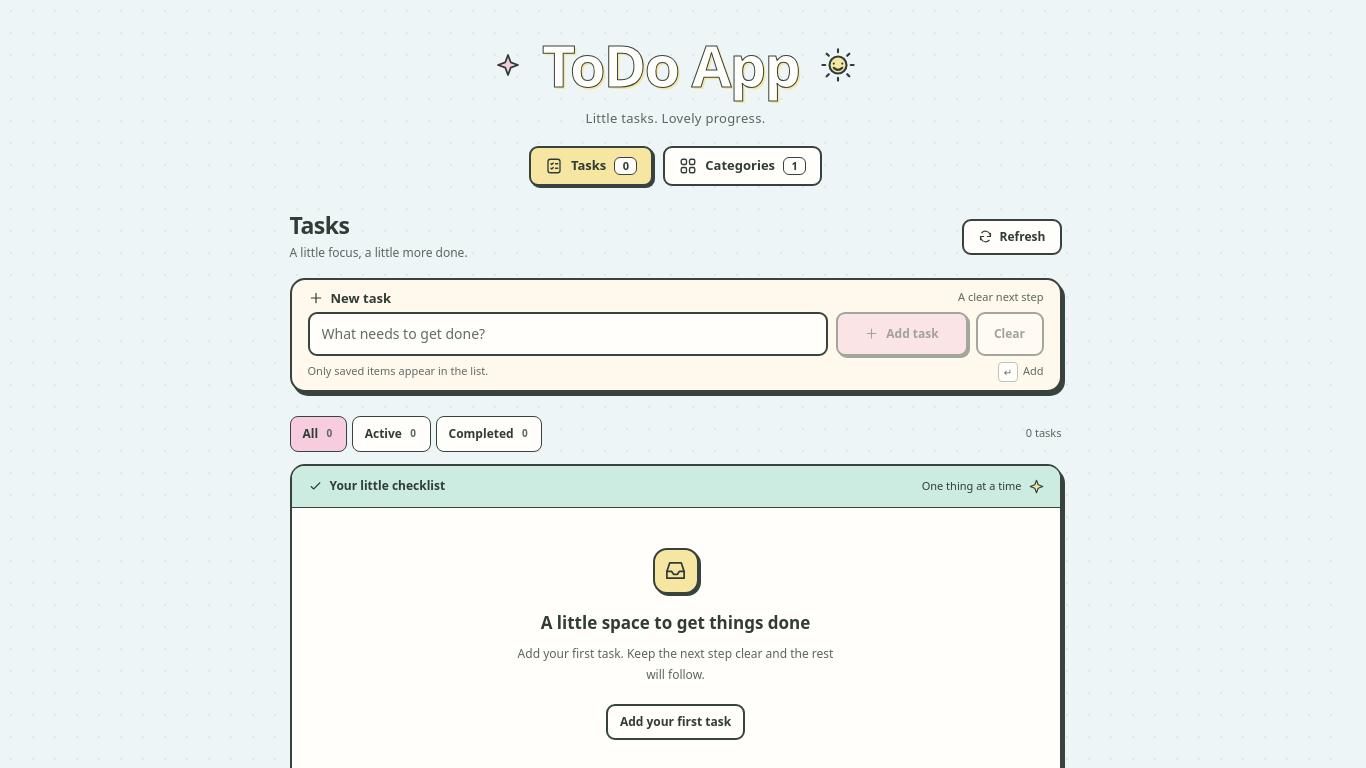
Scenario: offers useful empty states and keyboard form submission
This screenshot has width=1366, height=768.
Check: the heading "A little space to get things done" is shown, box [541,610,810,635]
Click the button "Add your first task" at point(676, 722), box [606,704,745,740]
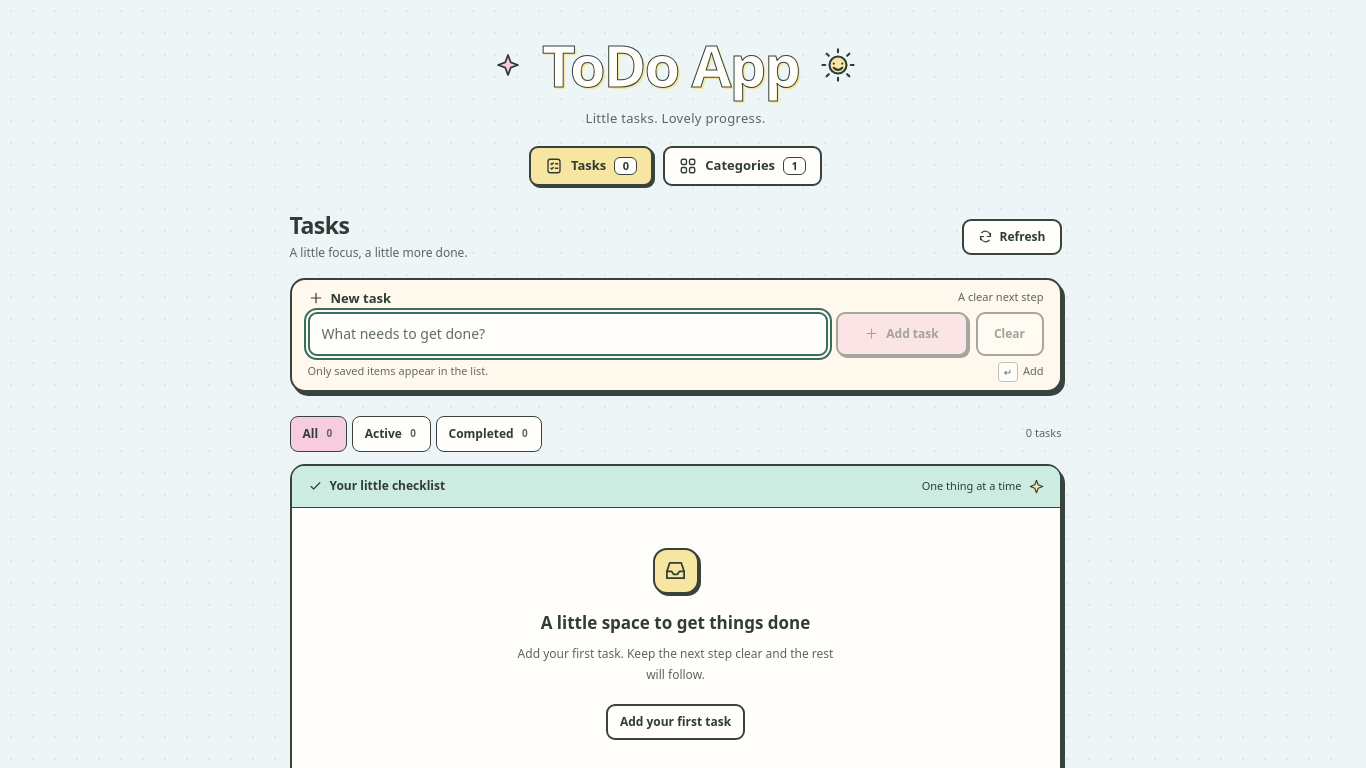
Check: the button "Add task" is disabled, box [836,312,968,356]
Type "First step" into the field named "Task title" at point(568, 334), box [308,312,828,356]
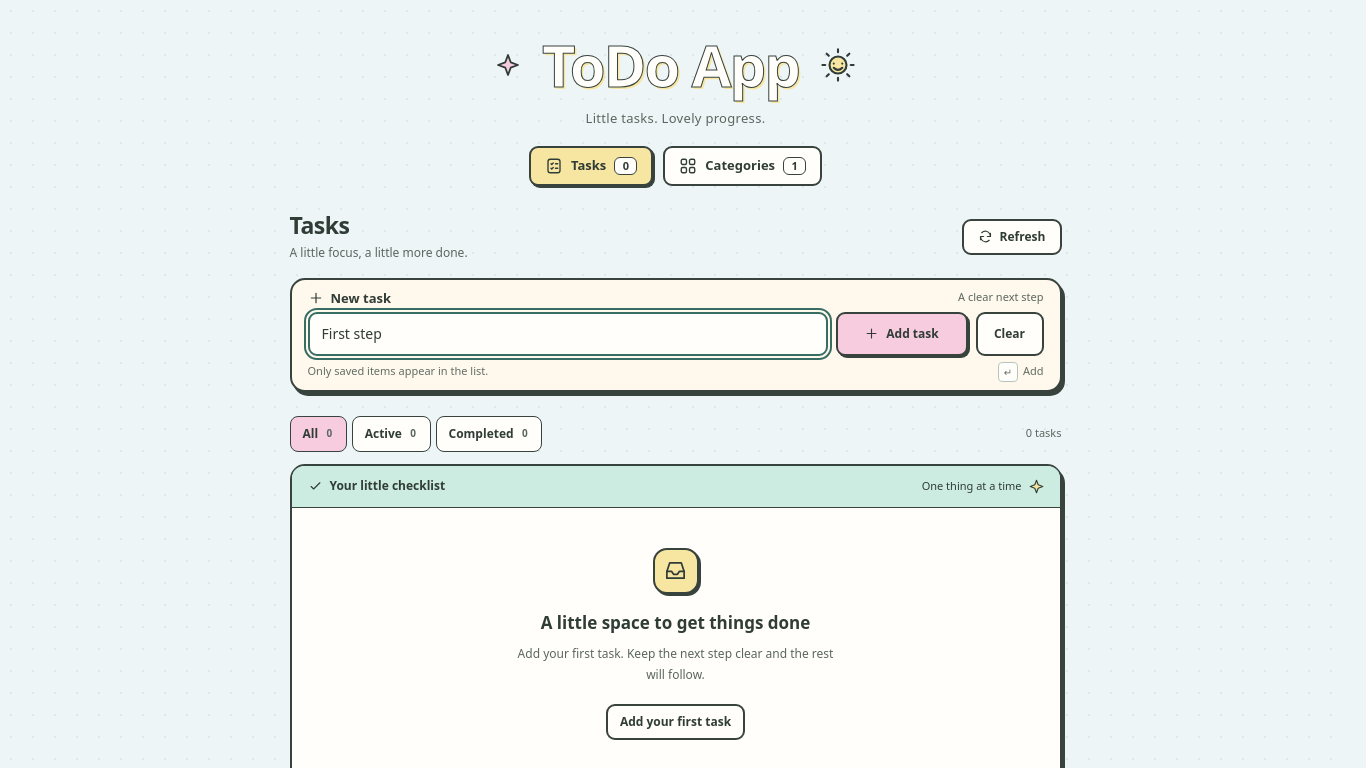
Submit the form "New task", box [290,278,1062,392]
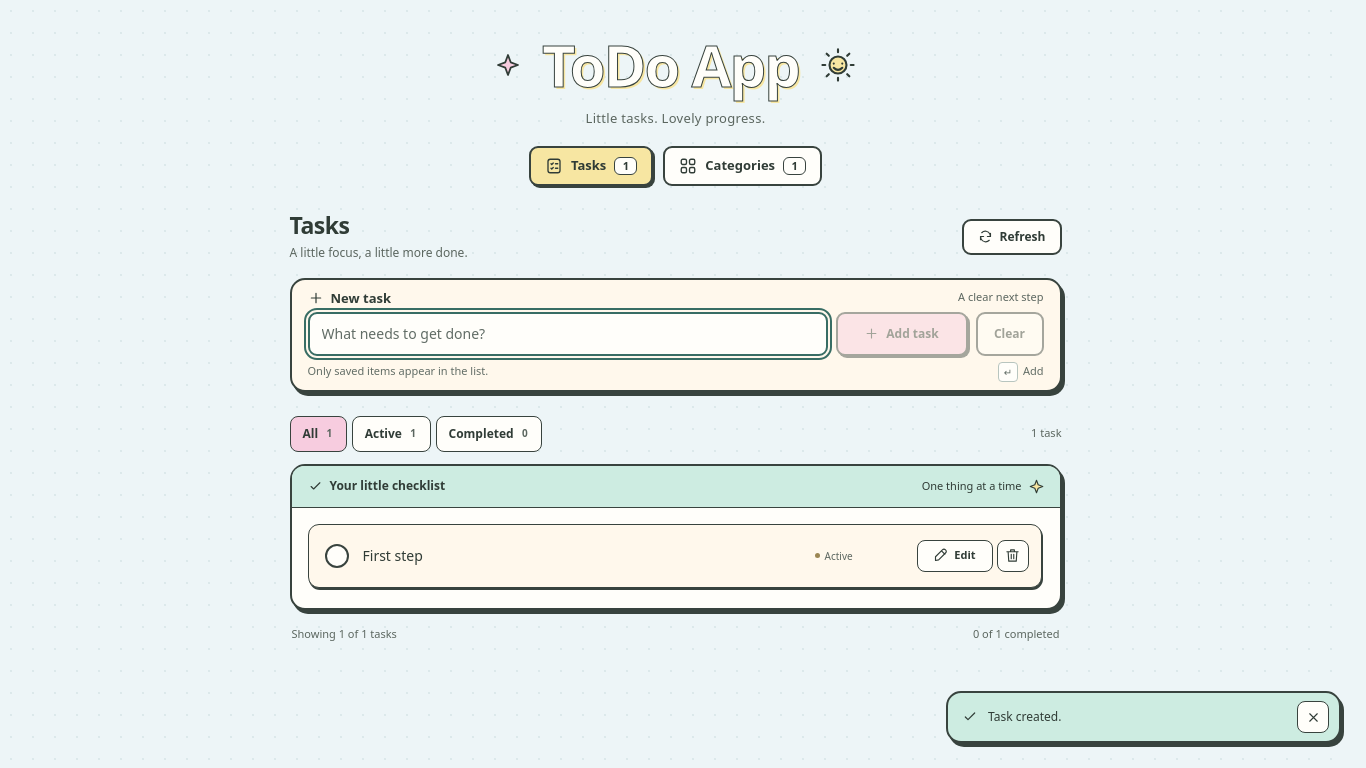
Check: the text "Task created." is shown, box [988,708,1061,725]
Click the button "Completed 0" at point(489, 434), box [436,416,542,452]
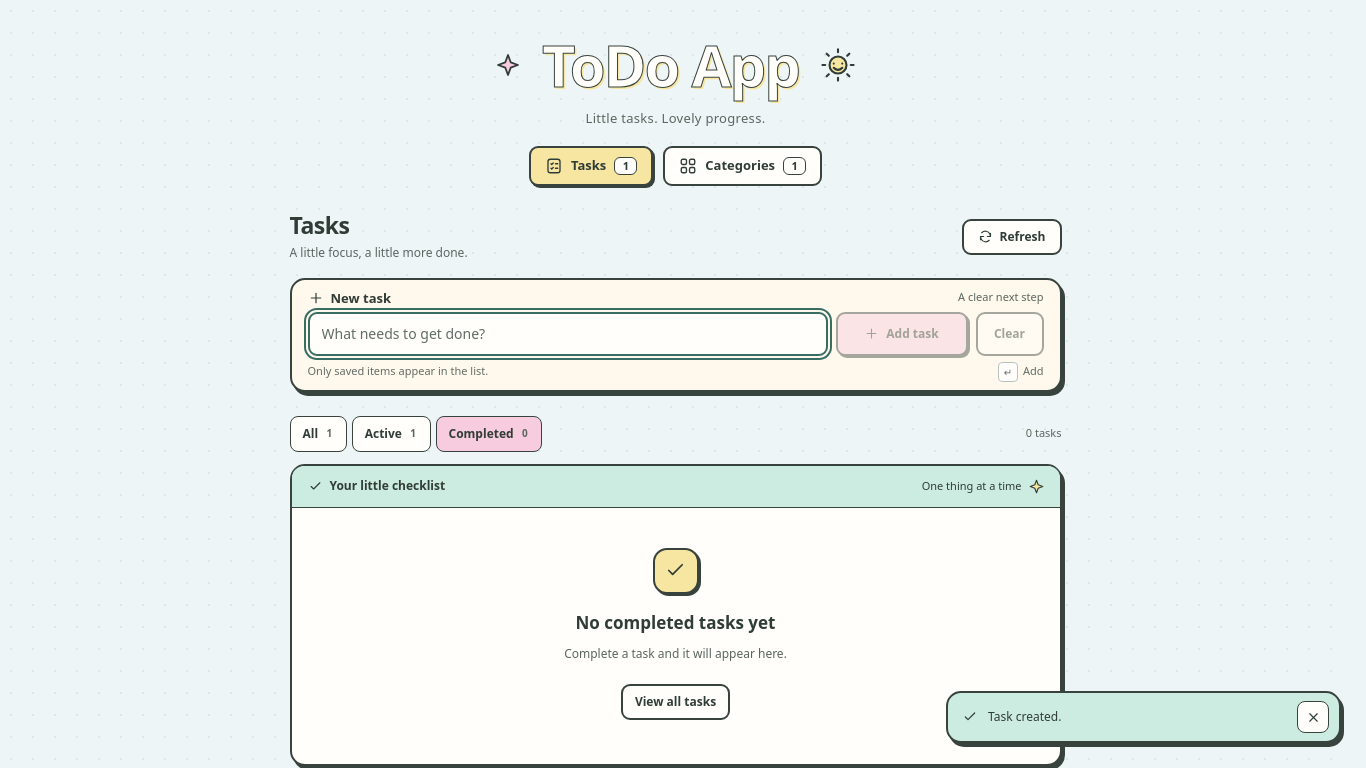
Check: the heading "No completed tasks yet" is shown, box [576,610,775,635]
Click the button "View all tasks" at point(676, 702), box [621,684,730,720]
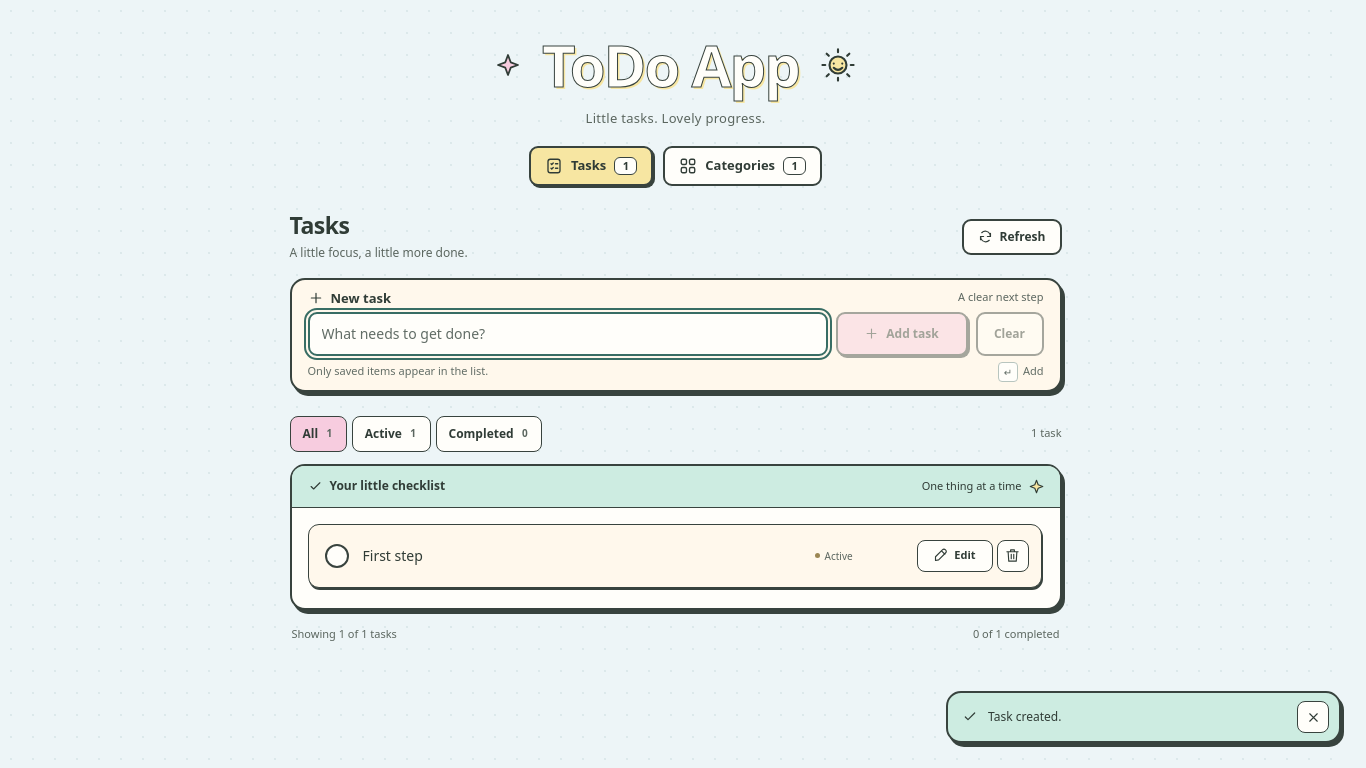
Check: the text "First step" is shown, box [362,546,423,565]
